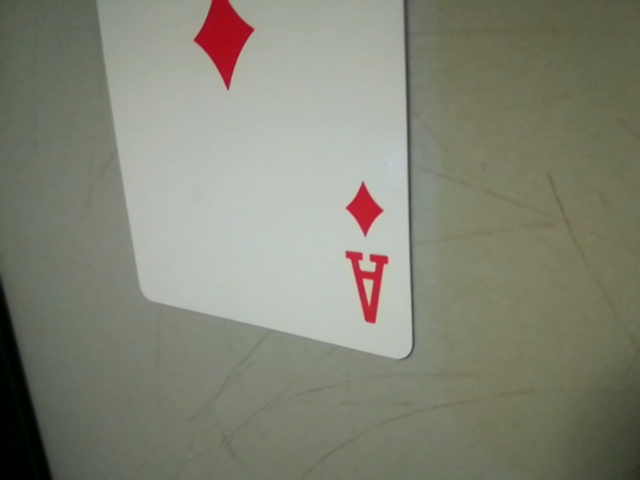fk a: (329, 167, 398, 343)
